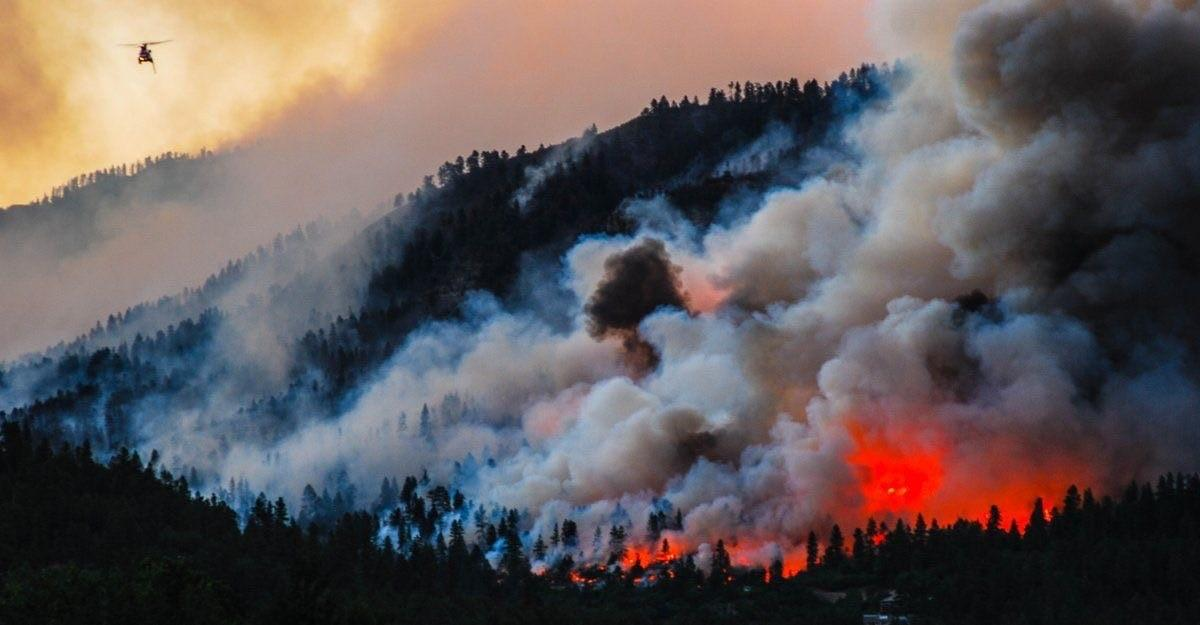fire: (861, 446, 1101, 547), (730, 549, 836, 591), (529, 562, 672, 592), (613, 525, 691, 574)
smoke: (842, 23, 1200, 378), (580, 230, 834, 487), (160, 394, 420, 543), (421, 338, 586, 565)
